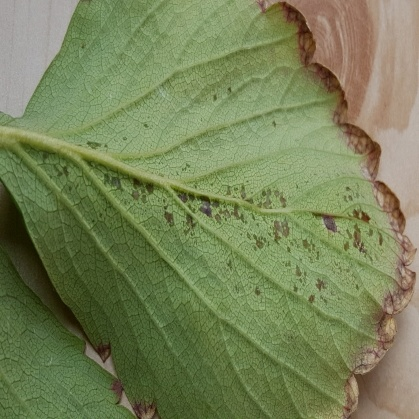Angular_LS: (0, 0, 398, 418)
